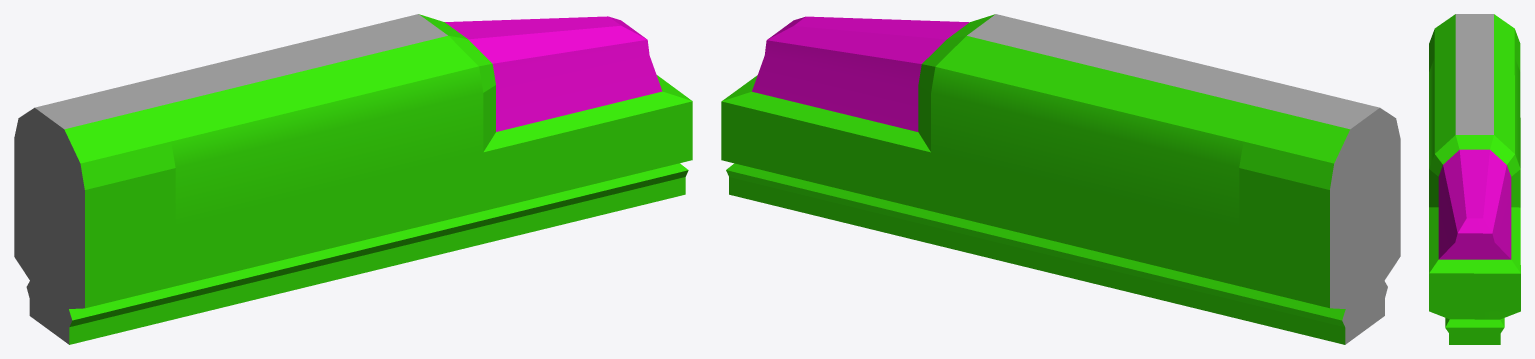
File: Asset_TrainHead.fbx
3 renders of one model, left to right at view 1: azimuth 30°, elevation 25°; view 2: azimuth 150°, elevation 25°; view 3: azimuth 270°, elevation 25°, orthographic. The views are drawn at different scales.
Parts seen in each view (by area): view 1: pCube475; view 2: pCube475; view 3: pCube475.
Part boxes in pixels (bbox=[...]): pCube475: bbox=[14, 14, 692, 344]; pCube475: bbox=[721, 14, 1400, 344]; pCube475: bbox=[1429, 14, 1520, 344].
Size of the model in its own units: 36.37 by 11.95 by 7.26.
